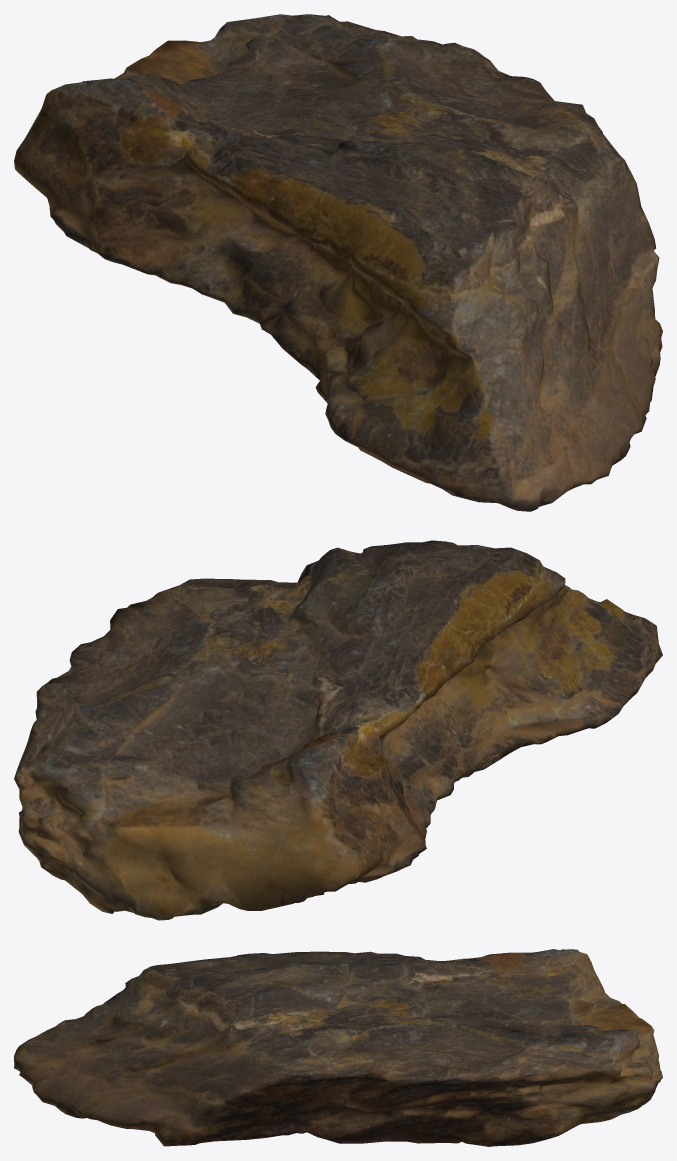
File: rock_09.glb
3 renders of one model, top to bottom at view 1: azimuth 30°, elevation 25°; view 2: azimuth 150°, elevation 25°; view 3: azimuth 270°, elevation 25°, orthographic. The views are drawn at different scales.
Parts seen in each view (by area): view 1: rock_09_LOD0; view 2: rock_09_LOD0; view 3: rock_09_LOD0.
Boxes of the visible parts, box(x1,y1,x2,y2) form: rock_09_LOD0: box(14, 14, 662, 511); rock_09_LOD0: box(14, 540, 662, 920); rock_09_LOD0: box(14, 949, 662, 1146).
Bounding box in the file's own units: 0.074 × 0.0328 × 0.1446.
1 material, 1 textured.
